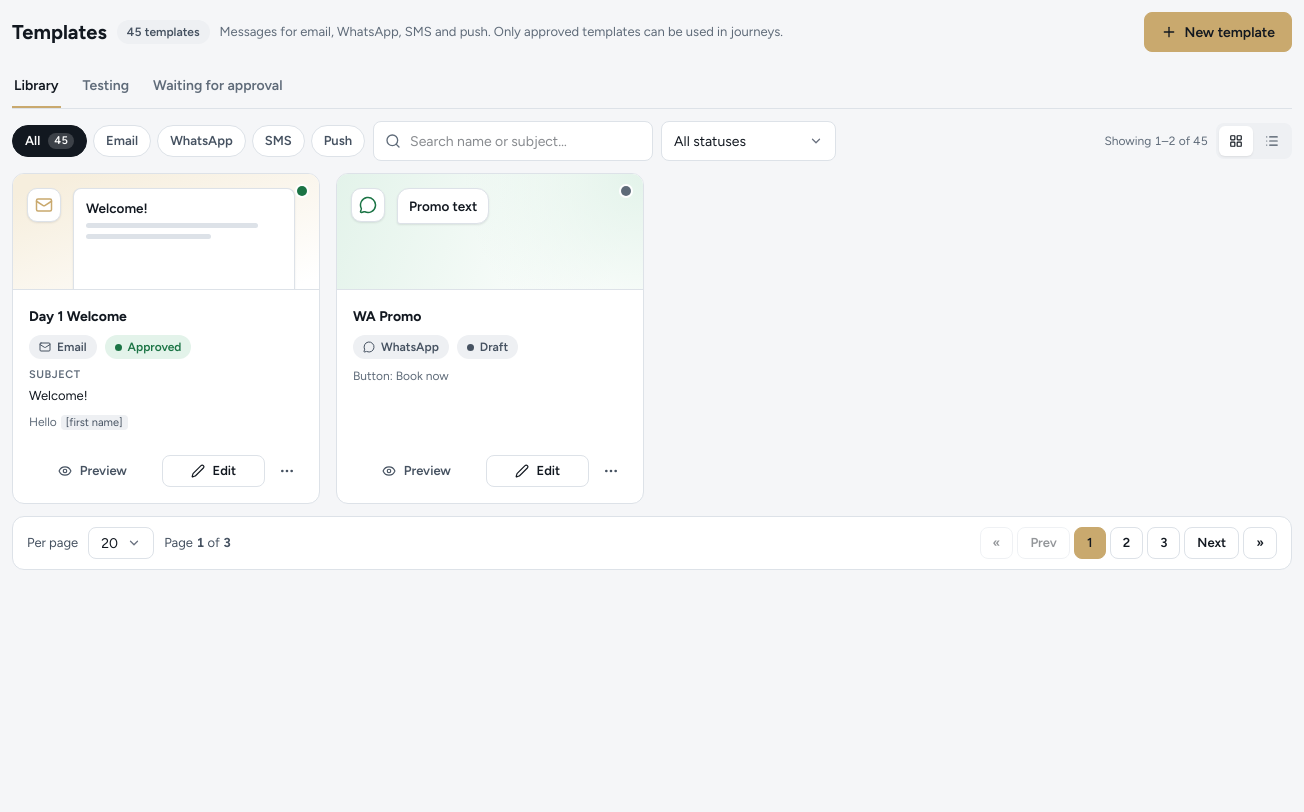
Test case: Templates page — library › shows a filtered empty state when a search matches nothing
expect the heading "Day 1 Welcome" is shown: met, box [29,308,127,325]
In the field with placeholder "Search name or subject…": (513, 141) [373,121,653,161], type "zzz"
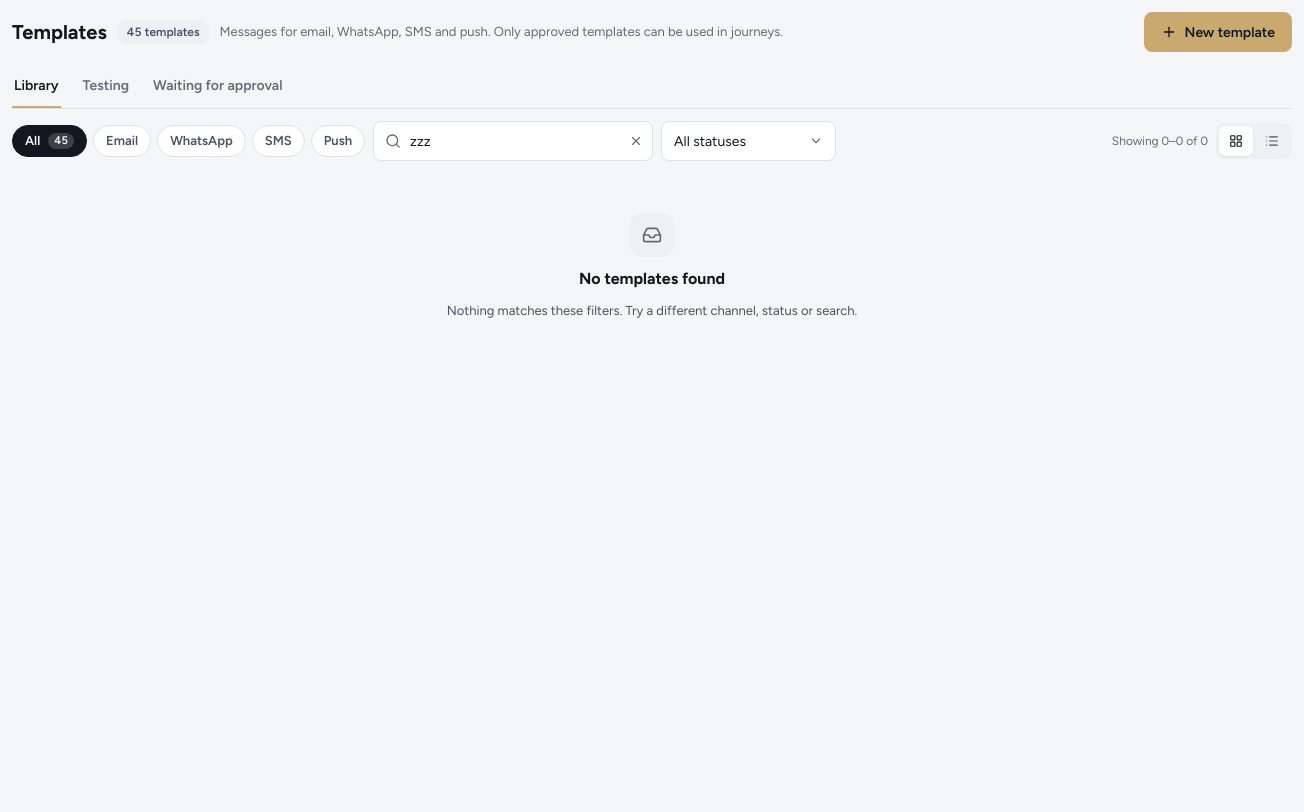
expect the heading "No templates found" is shown: met, box [579,267,725,291]
